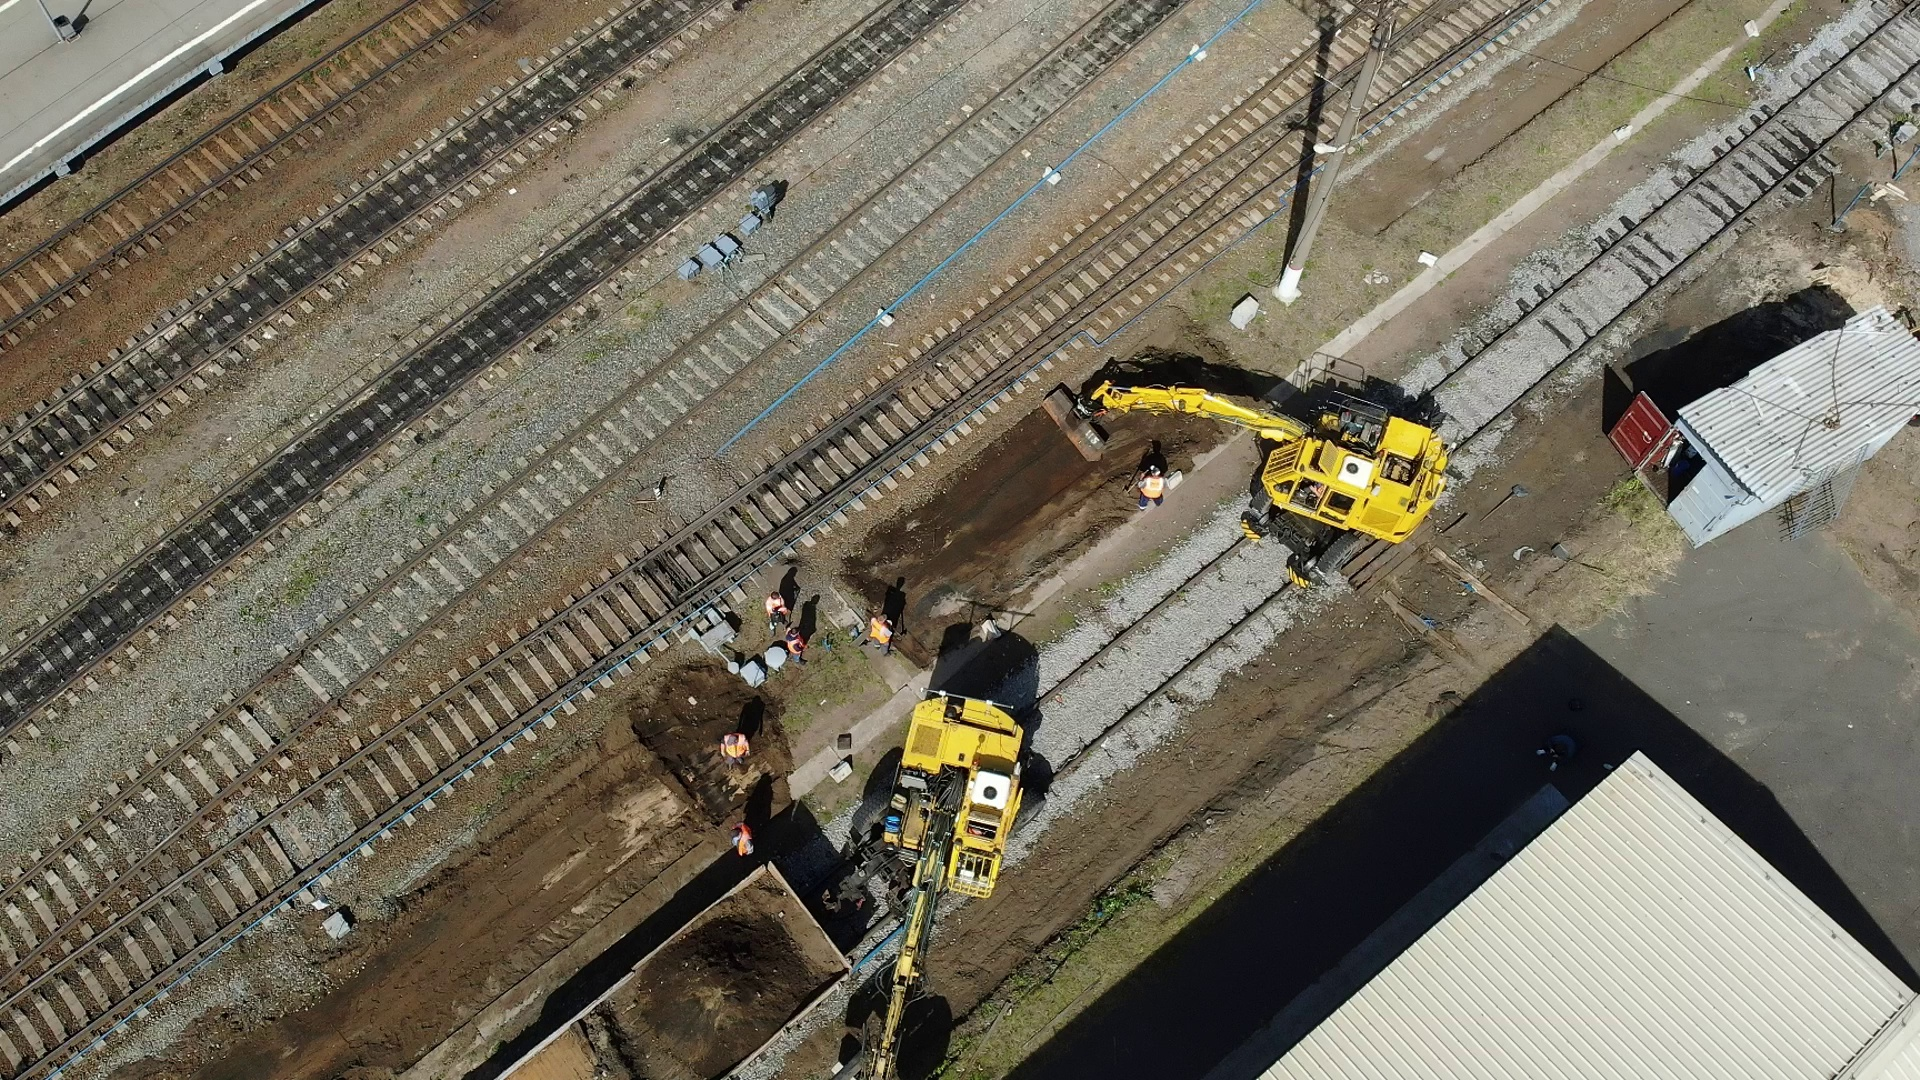kjtv: (1247, 381, 1437, 571), (865, 696, 1019, 899)
